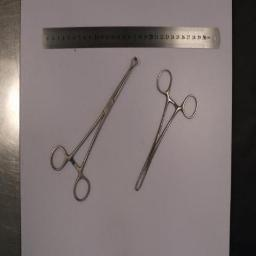Allis Tissue Forceps: (135, 68, 199, 192)
